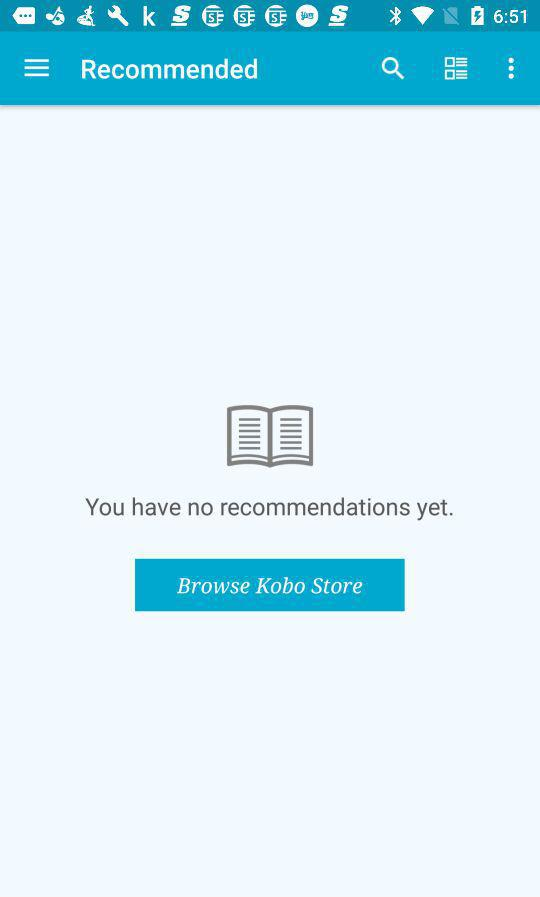Icon: (381, 57, 406, 81), (24, 59, 51, 79), (507, 57, 515, 81)
Image: (226, 405, 314, 469), (443, 57, 468, 82)
Text: (86, 496, 454, 522), (81, 58, 258, 81)
TextButton: (135, 558, 406, 612)
Toolbar: (1, 33, 540, 105)
UpperTaskBar: (1, 1, 540, 33)
